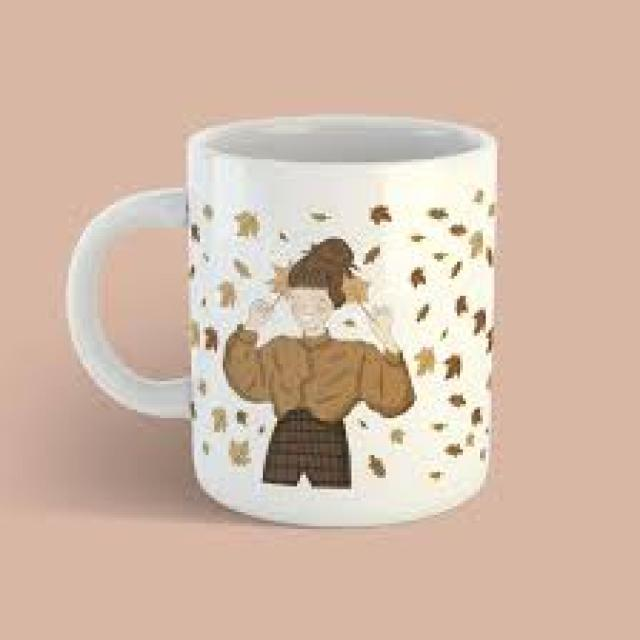taza: (66, 115, 499, 529)
